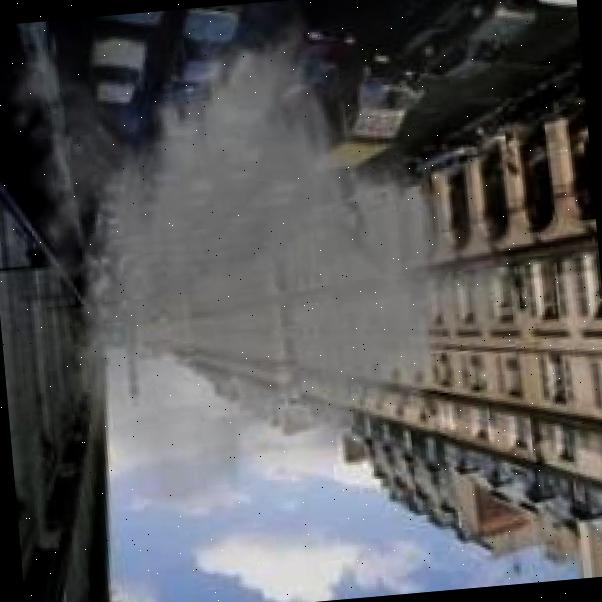smoke: (0, 0, 544, 531)
